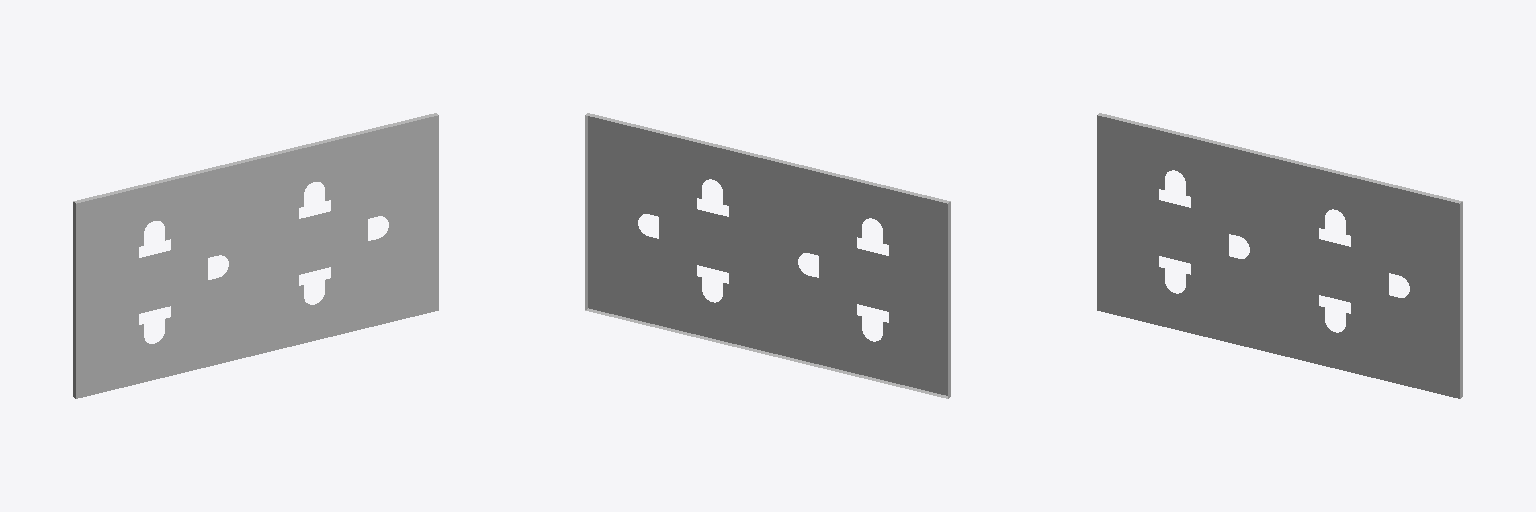
Rendered from original-8.obj.
3 views of the same model, side by side, from view 1: azimuth 30°, elevation 25°; view 2: azimuth 150°, elevation 25°; view 3: azimuth 330°, elevation 25° (orthographic).
Parts seen in each view (by area): view 1: #ID50; view 2: #ID50; view 3: #ID50.
Part boxes in pixels (bbox=[...]): #ID50: bbox=[73, 113, 438, 398]; #ID50: bbox=[585, 113, 950, 398]; #ID50: bbox=[1097, 113, 1462, 398].
Size of the model in its own units: 0.8103 by 0.4171 by 0.0119.